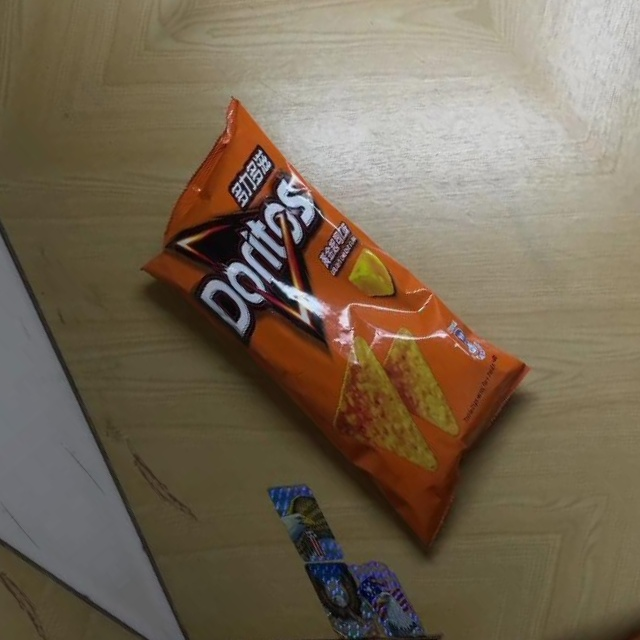Doritos: (96, 63, 579, 575)
